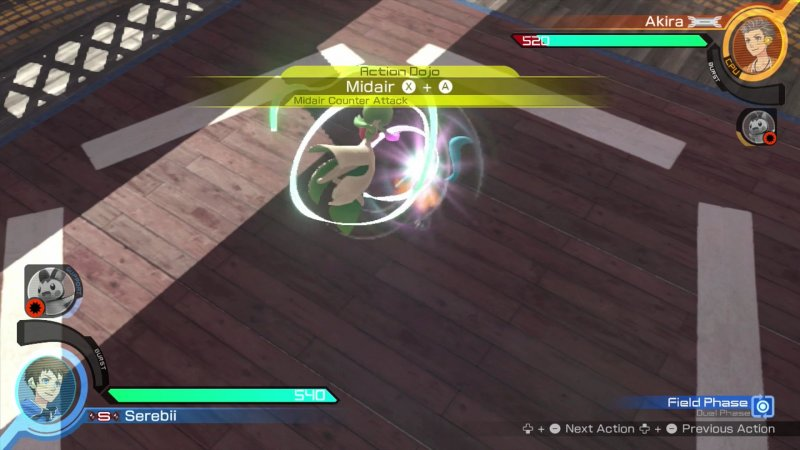gardevoir: (293, 96, 402, 239)
